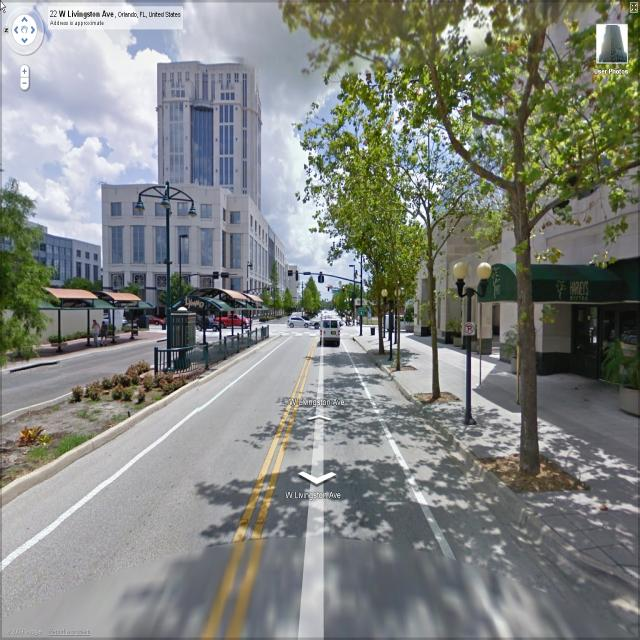b_1: (94, 50, 296, 308), (37, 234, 81, 288), (75, 228, 107, 298)
b_2: (391, 3, 640, 403), (193, 214, 313, 320), (0, 227, 122, 320)
